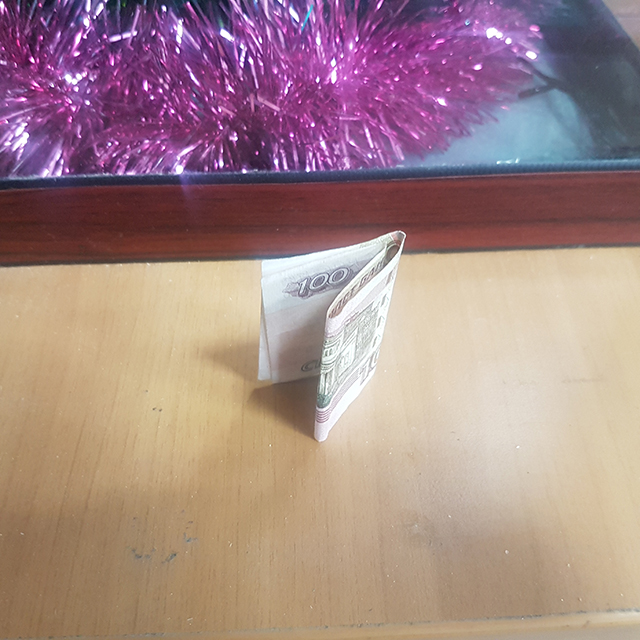banknotes: (260, 231, 408, 440)
